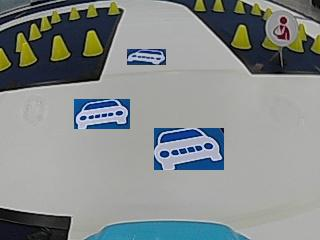cone: (50, 35, 70, 61), (82, 30, 102, 56), (231, 24, 251, 49), (19, 38, 36, 65), (0, 46, 11, 70), (28, 22, 42, 39), (311, 33, 320, 53), (107, 1, 119, 15), (68, 6, 80, 20), (86, 3, 98, 17), (40, 15, 51, 30), (212, 0, 224, 12), (193, 0, 205, 11), (234, 1, 245, 13), (251, 2, 261, 15), (51, 10, 61, 22)
patient: (266, 11, 297, 45)
